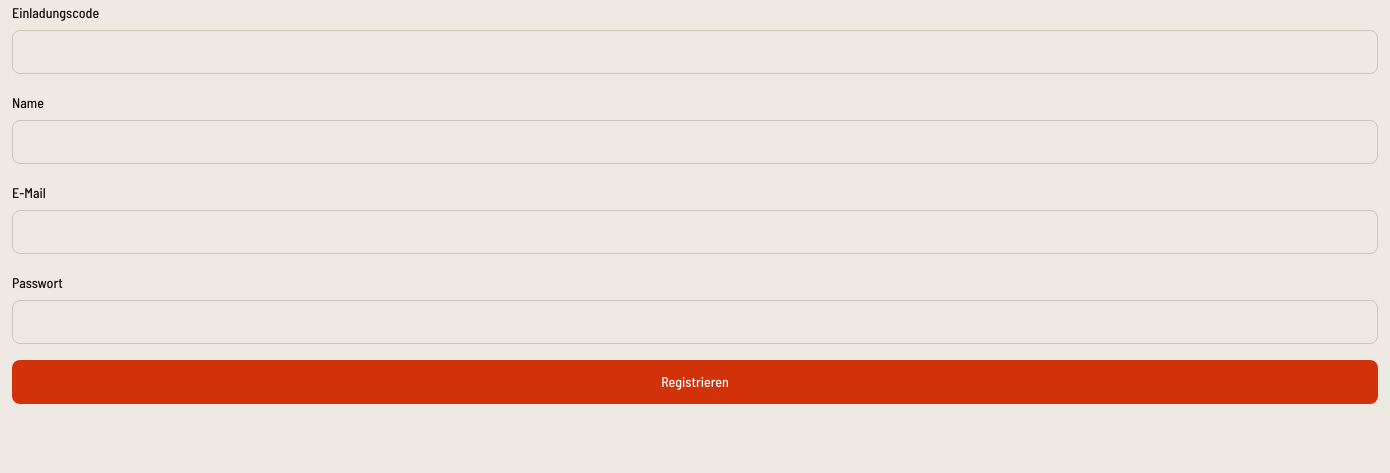
Test: RegisterForm › requires invite code and long password
In the field named "E-Mail": [695, 232] box [12,210,1378,254], type "a@b.de"
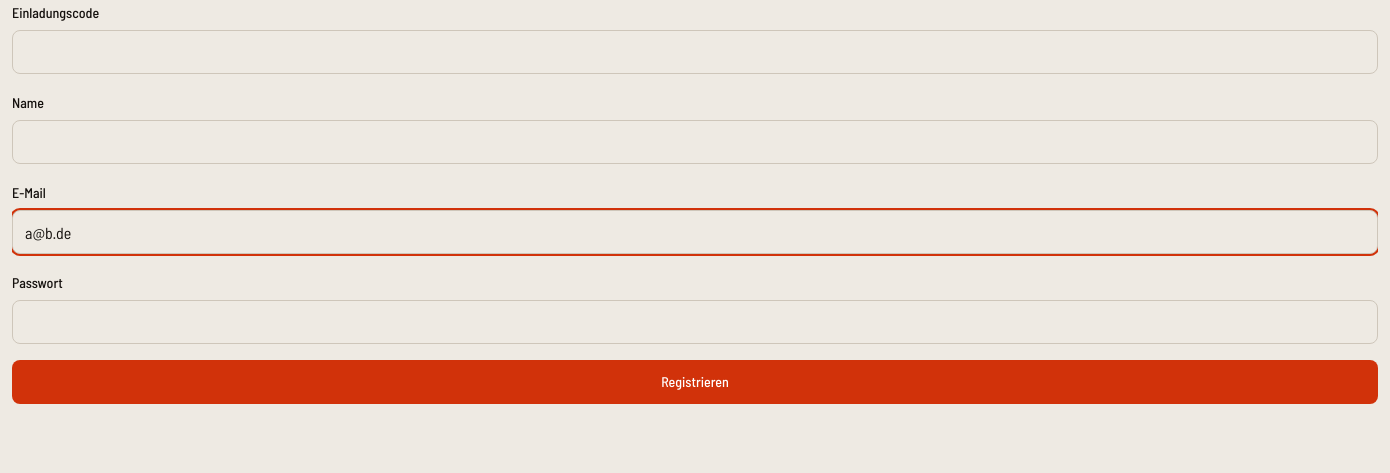
In the field named "Name": [695, 142] box [12,120,1378,164], type "Anna"
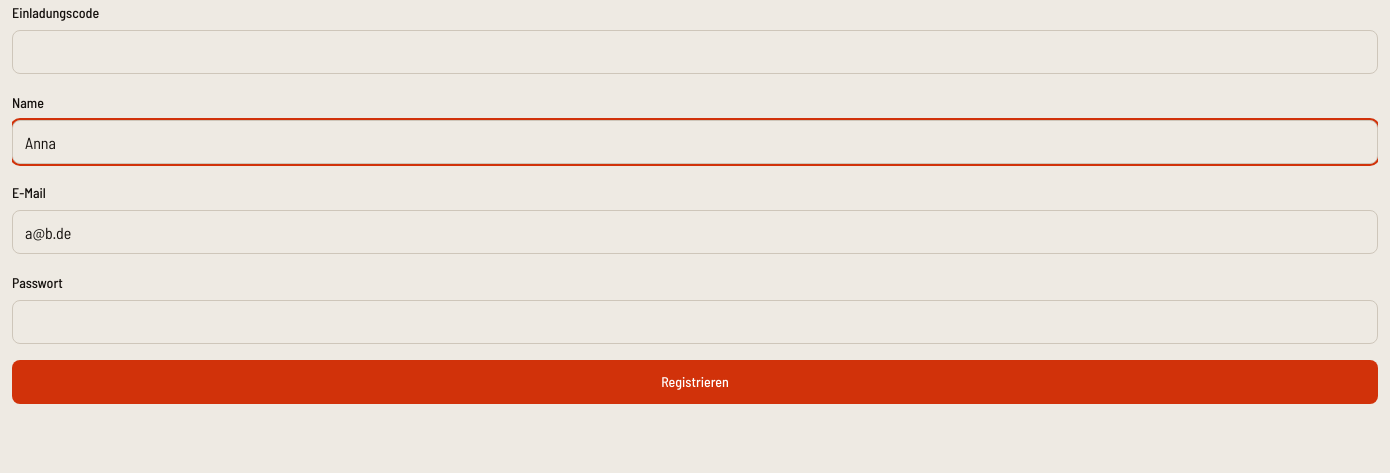
In the password field named "Passwort": [695, 322] box [12,300,1378,344], type "kurz"
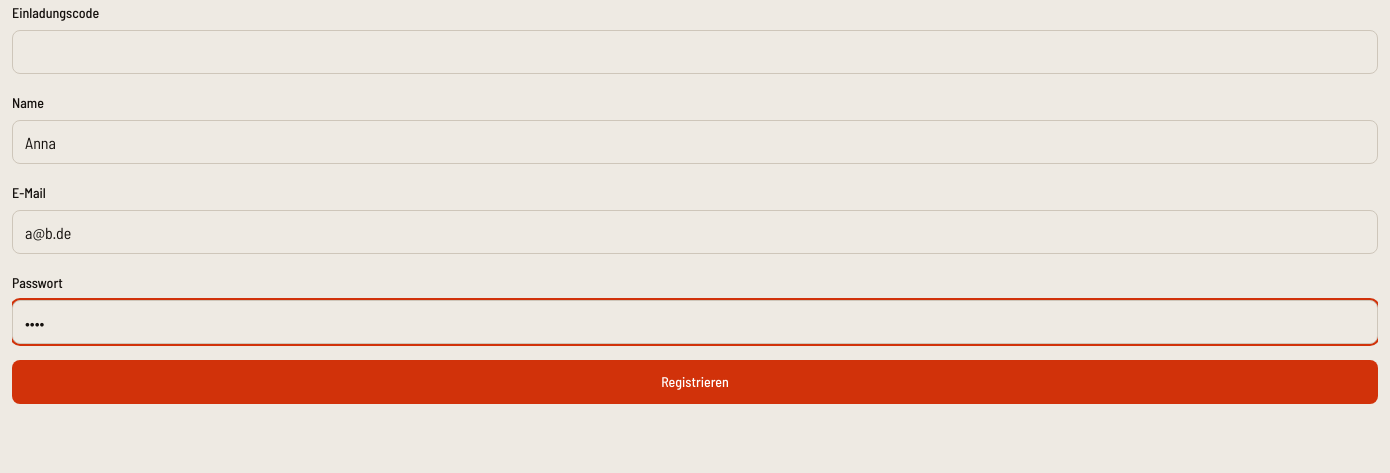
Click the button "Registrieren": [695, 382] box [12,360,1378,404]
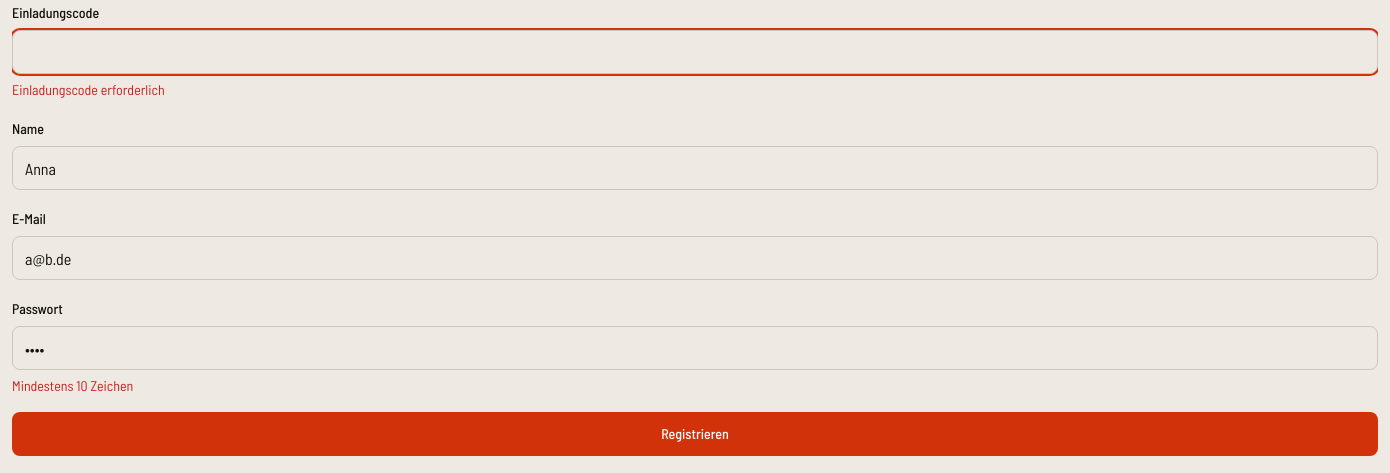
Now the text "Mindestens 10 Zeichen" is shown, box [12,377,133,394]
Now the text "Einladungscode erforderlich" is shown, box [12,81,165,98]
